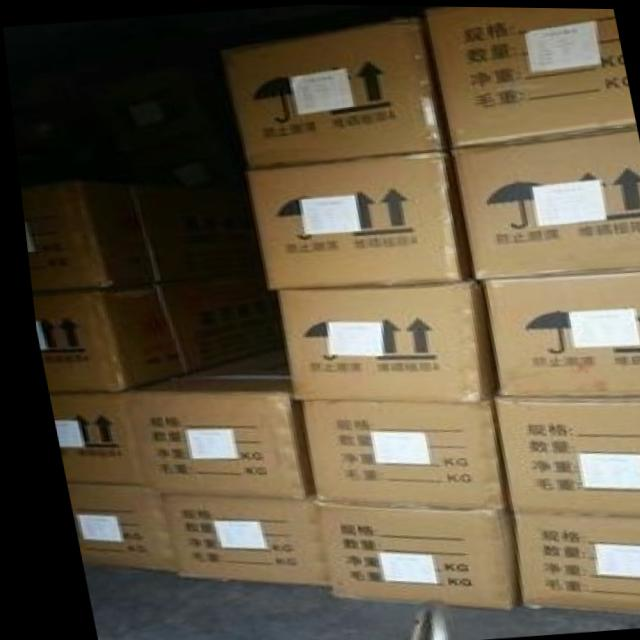box: (221, 15, 444, 169), (26, 266, 265, 394), (417, 5, 631, 146), (445, 127, 640, 280), (15, 172, 255, 295), (243, 150, 459, 286), (118, 345, 301, 498), (269, 283, 481, 400), (287, 401, 495, 508), (301, 498, 499, 609), (475, 269, 640, 397), (479, 396, 640, 515), (495, 510, 640, 614), (150, 493, 314, 584), (55, 482, 162, 571), (40, 393, 134, 484)
